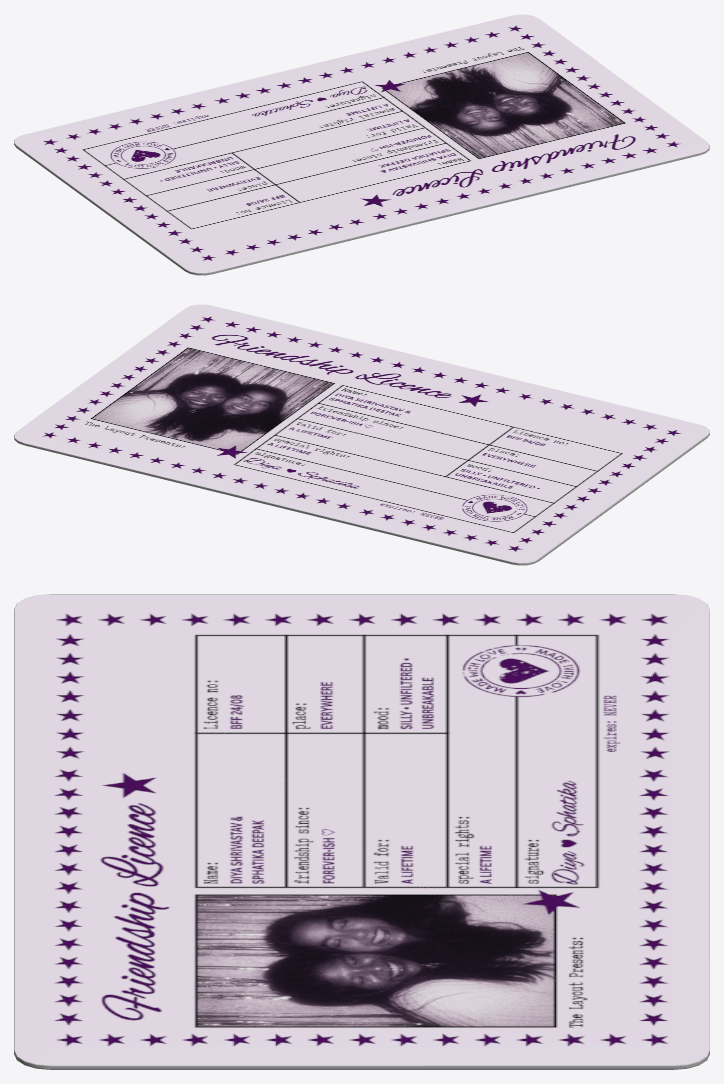
File: card.glb
The picture shows the model from 3 angles, top to bottom: view 1: azimuth 30°, elevation 25°; view 2: azimuth 150°, elevation 25°; view 3: azimuth 270°, elevation 25°; orthographic projection. The views are drawn at different scales.
Parts seen in each view (by area): view 1: polySurface4; view 2: polySurface4; view 3: polySurface4.
Part boxes in pixels (x1,y1,x2,y2): polySurface4: [14, 14, 709, 275]; polySurface4: [14, 304, 709, 565]; polySurface4: [14, 594, 709, 1069].
Bounding box in the file's own units: 0.057 × 0.000252 × 0.0355.
Materials: 1 (1 with a texture image).
